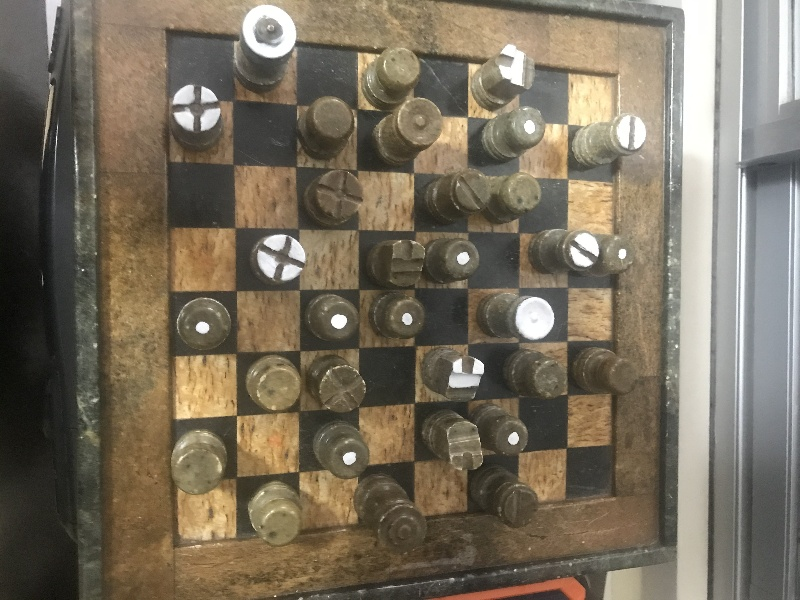WhiteBishop: (171, 85, 223, 149), (249, 234, 307, 283)
WhitePawn: (481, 107, 545, 160), (311, 422, 368, 478), (468, 405, 529, 456), (175, 296, 231, 350), (367, 292, 424, 340), (304, 292, 358, 342), (422, 240, 481, 284), (592, 233, 637, 273)
WhiteRook: (571, 115, 647, 168), (528, 231, 600, 275)
